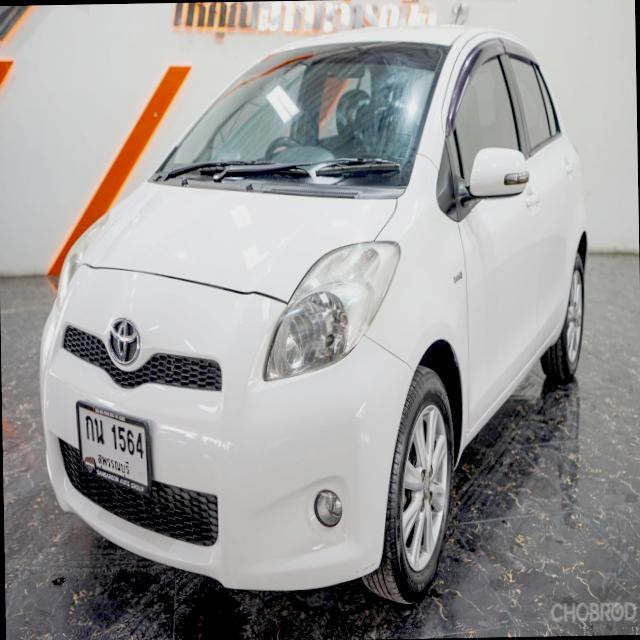license_plate: (74, 395, 154, 500)
